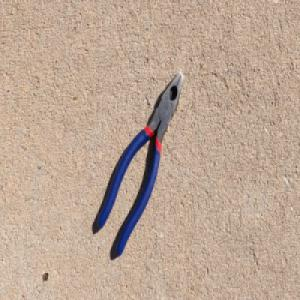Pliers: (95, 64, 187, 259)
